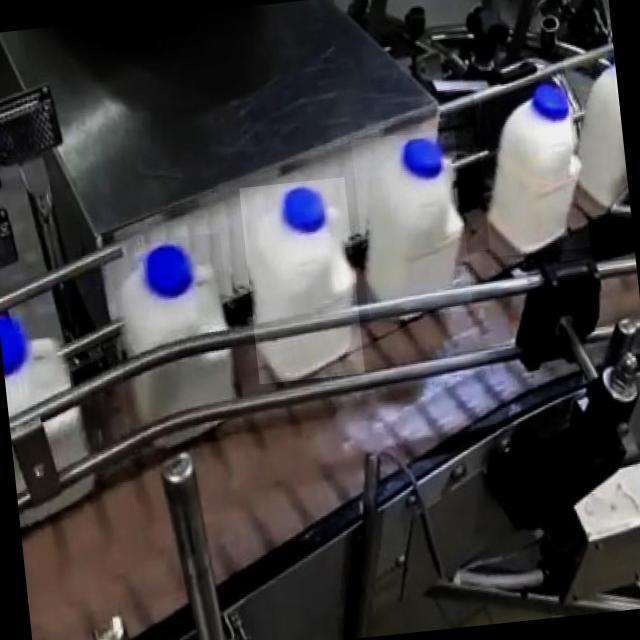blue: (106, 238, 246, 444), (244, 178, 367, 382), (356, 126, 480, 328), (0, 293, 101, 535), (479, 80, 598, 270)
